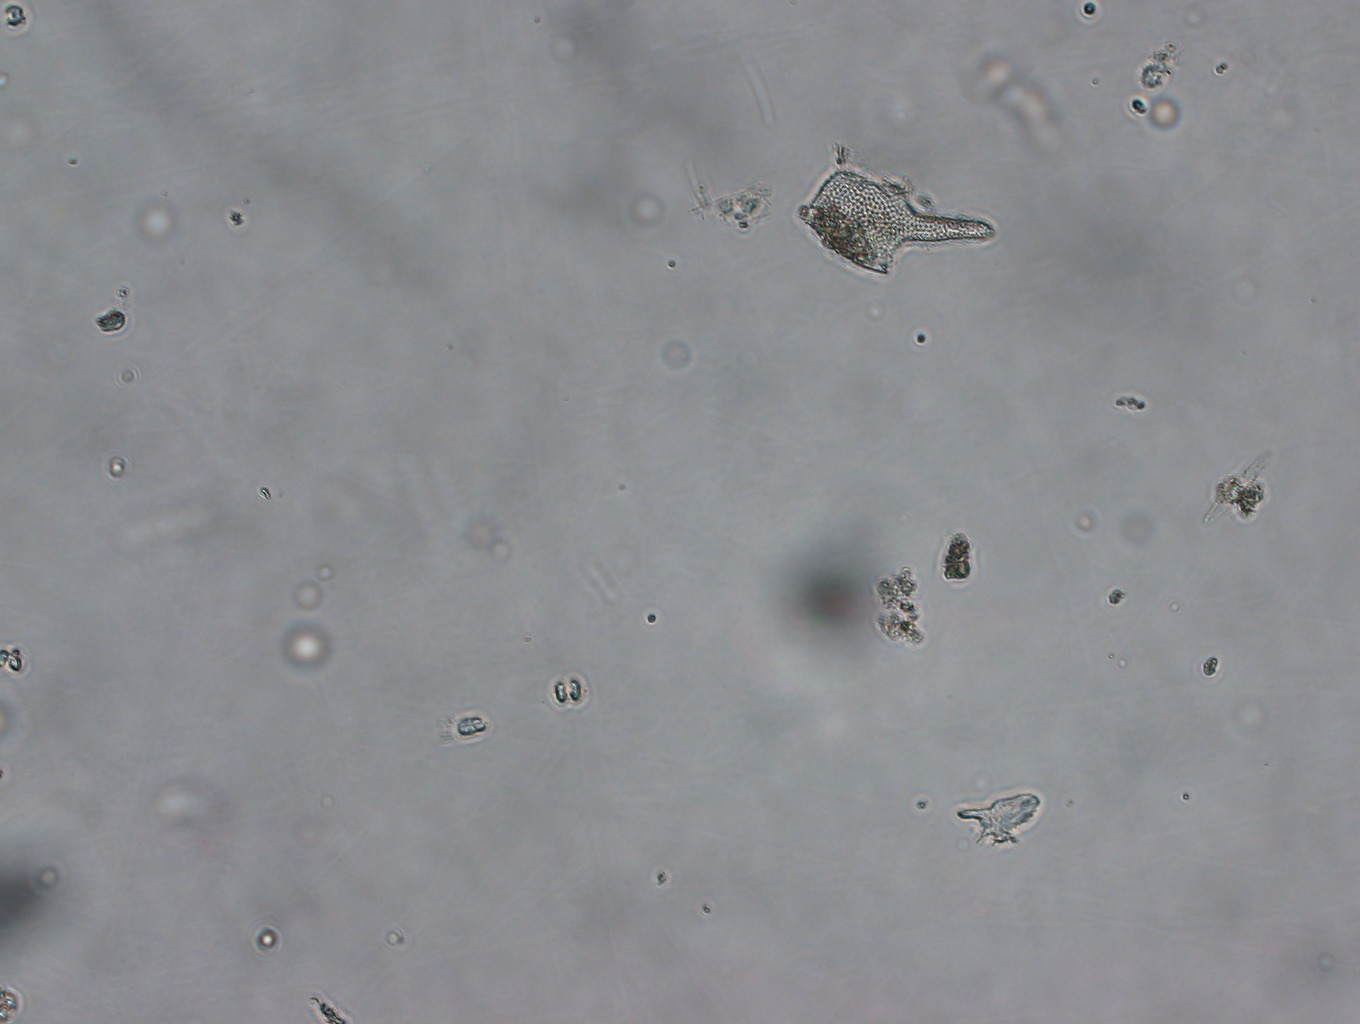dinophysis caudata: (793, 139, 1002, 282)
